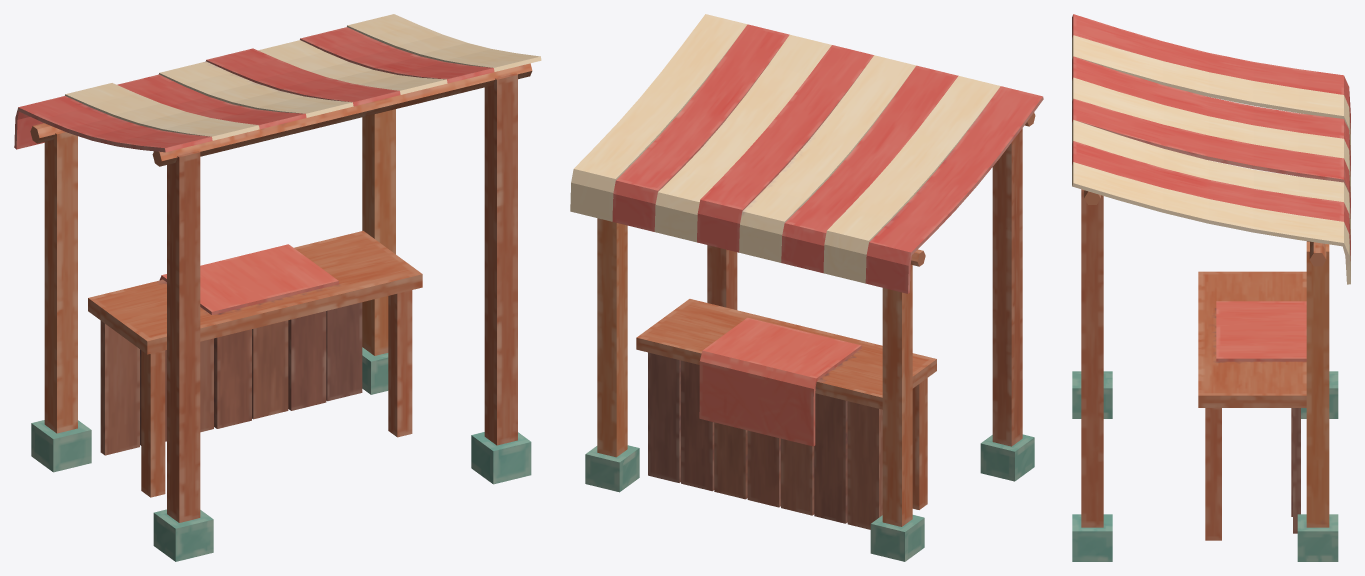
File: stall_low.fbx
The picture shows the model from 3 angles, left to right: view 1: azimuth 30°, elevation 25°; view 2: azimuth 150°, elevation 25°; view 3: azimuth 270°, elevation 25°; orthographic projection. The views are drawn at different scales.
Visible parts, largest first — view 1: stall; view 2: stall; view 3: stall.
Part boxes in pixels (x1,y1,x2,y2): stall: (14, 14, 541, 561); stall: (570, 14, 1043, 561); stall: (1072, 14, 1350, 561).
Bounding box in the file's own units: 7.1 × 7.5 × 4.95.
Materials: 1 (1 with a texture image).
